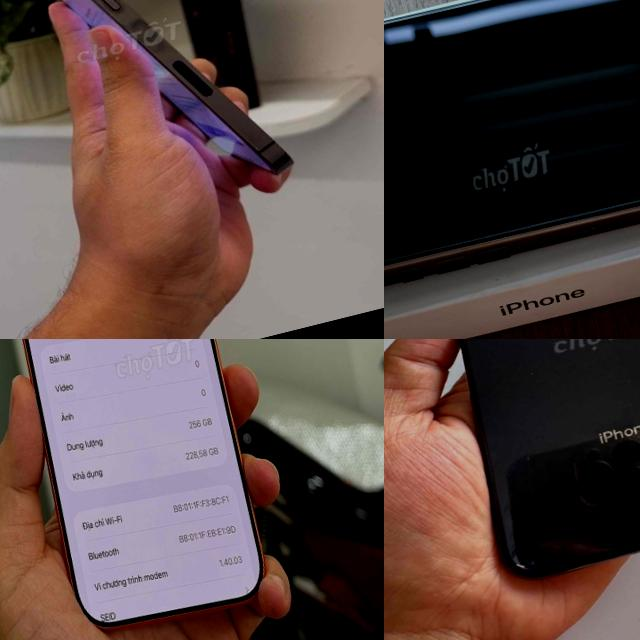gen_12_13: (0, 0, 314, 230)
gen_16: (384, 0, 640, 319)
gen_17: (0, 339, 289, 640)
gen_x_xs: (407, 339, 640, 588)
